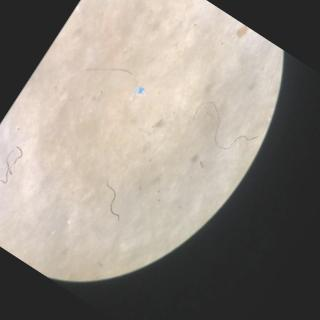Microplastic: (181, 87, 266, 165), (85, 170, 142, 229), (82, 43, 140, 97), (0, 140, 34, 191)
